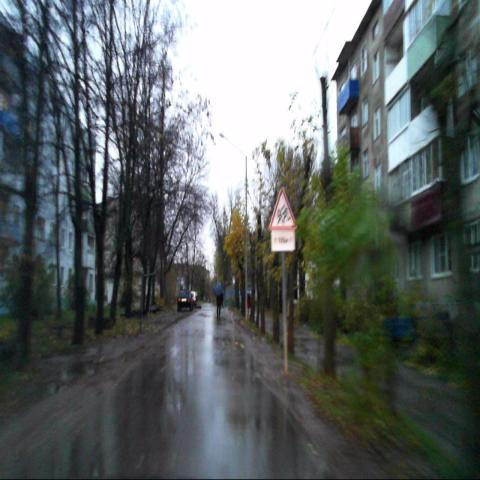1_23: (269, 186, 297, 231)
